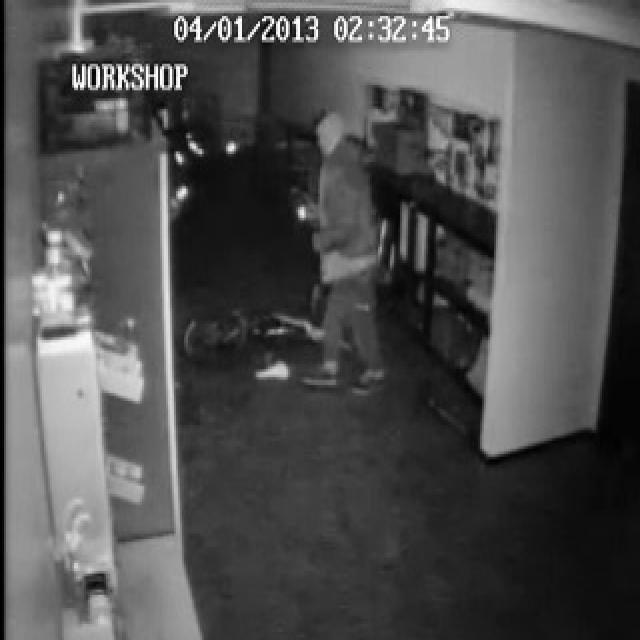thief: (306, 110, 381, 354)
